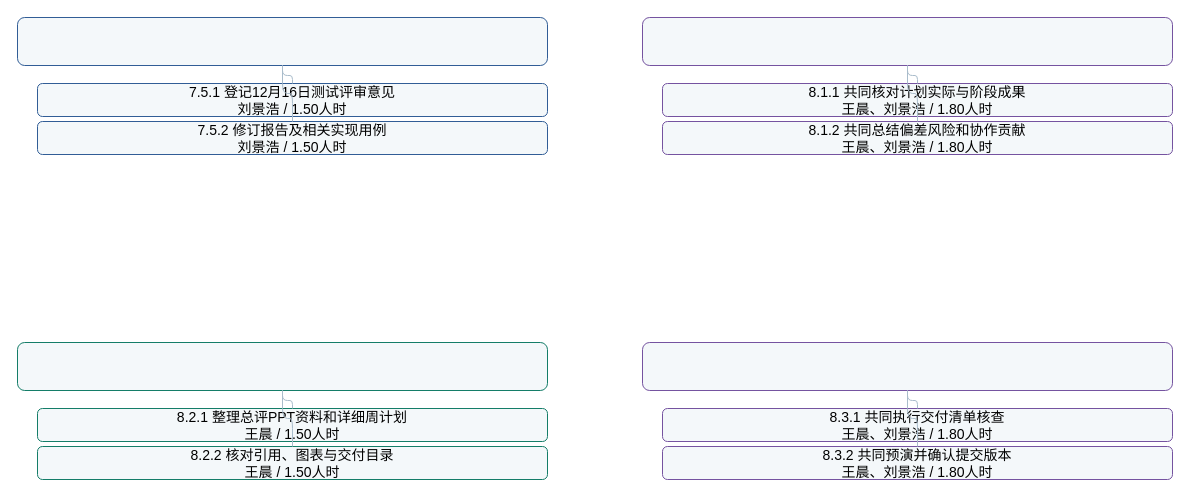
The diagram is 1190 pixels wide and 497 high, and some of its shapes have lost their labels. Here are the shapes that lost their labels. From the top down, the box of each, then its label:
(16, 16, 548, 66): 7.5 课堂测试评审意见处理 3.00人时
(642, 16, 1172, 66): 8.1 项目总结与计划偏差分析 3.60人时
(16, 342, 548, 390): 8.2 总评材料与详细计划附录 3.00人时
(642, 342, 1172, 390): 8.3 最终验收与汇报演练 3.60人时
